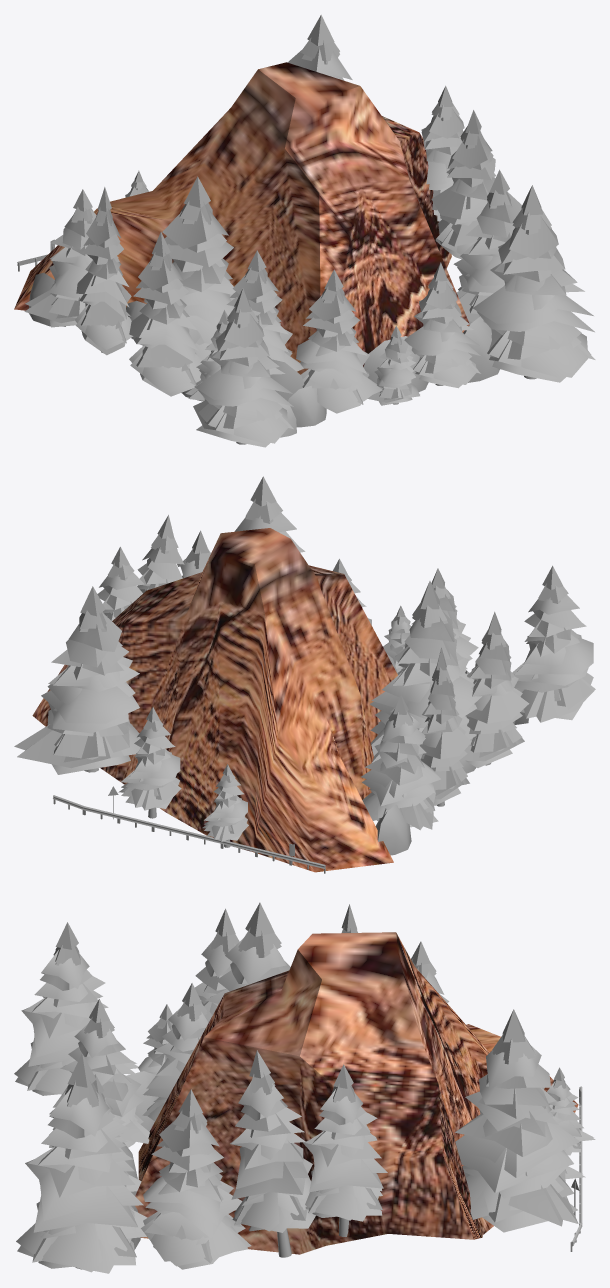
File: Zone_06.fbx
3 renders of one model, top to bottom at view 1: azimuth 30°, elevation 25°; view 2: azimuth 150°, elevation 25°; view 3: azimuth 270°, elevation 25°, orthographic. The views are drawn at different scales.
Parts seen in each view (by area): view 1: polymsh70; view 2: polymsh70; view 3: polymsh70.
Boxes of the visible parts, x1,y1,x2,y2 form: polymsh70: [14, 15, 595, 447]; polymsh70: [14, 476, 595, 873]; polymsh70: [14, 902, 595, 1273].
Size of the model in its own units: 29.74 by 16.13 by 32.53.
